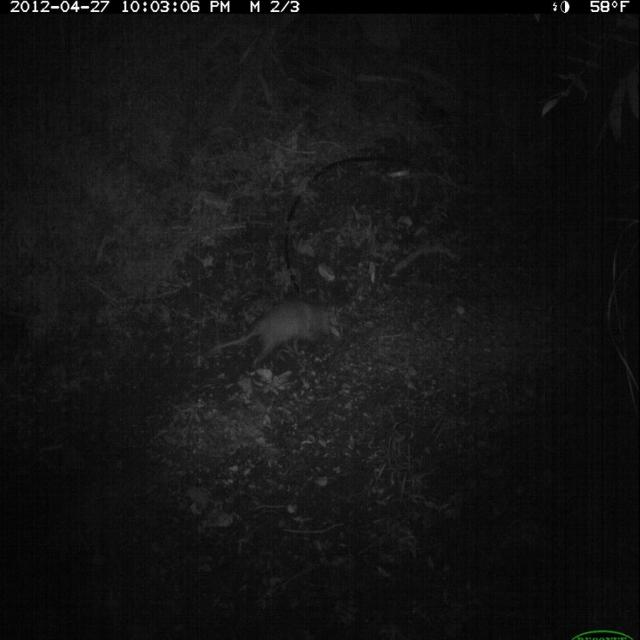opossum: (200, 293, 342, 383)
